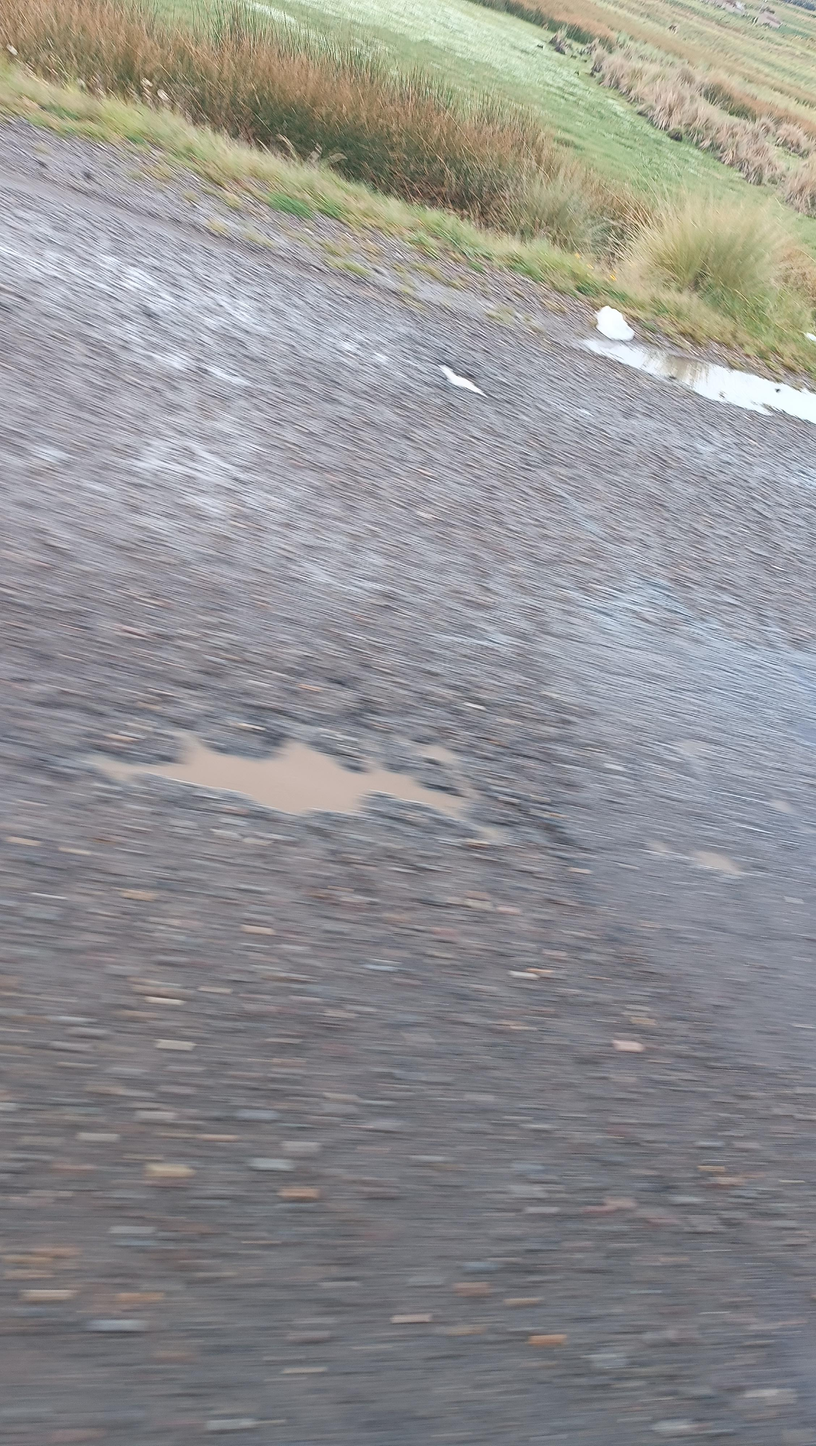BACHE: (57, 718, 525, 846)
